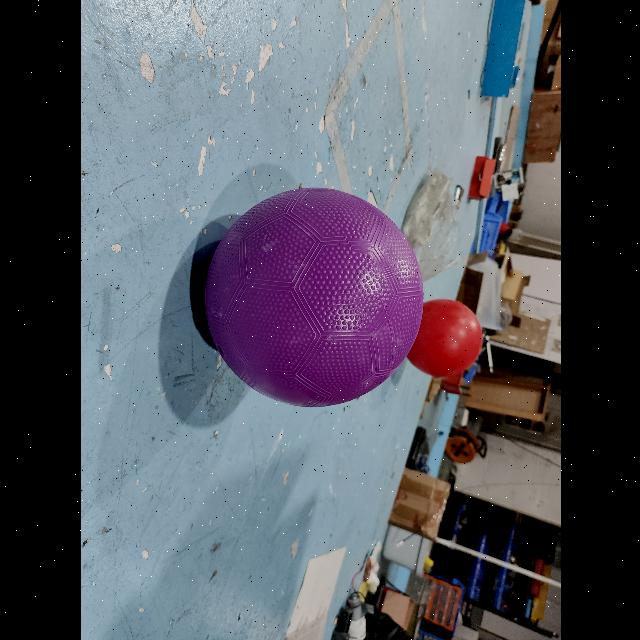P: (205, 187, 423, 407)
R: (400, 296, 482, 379)
